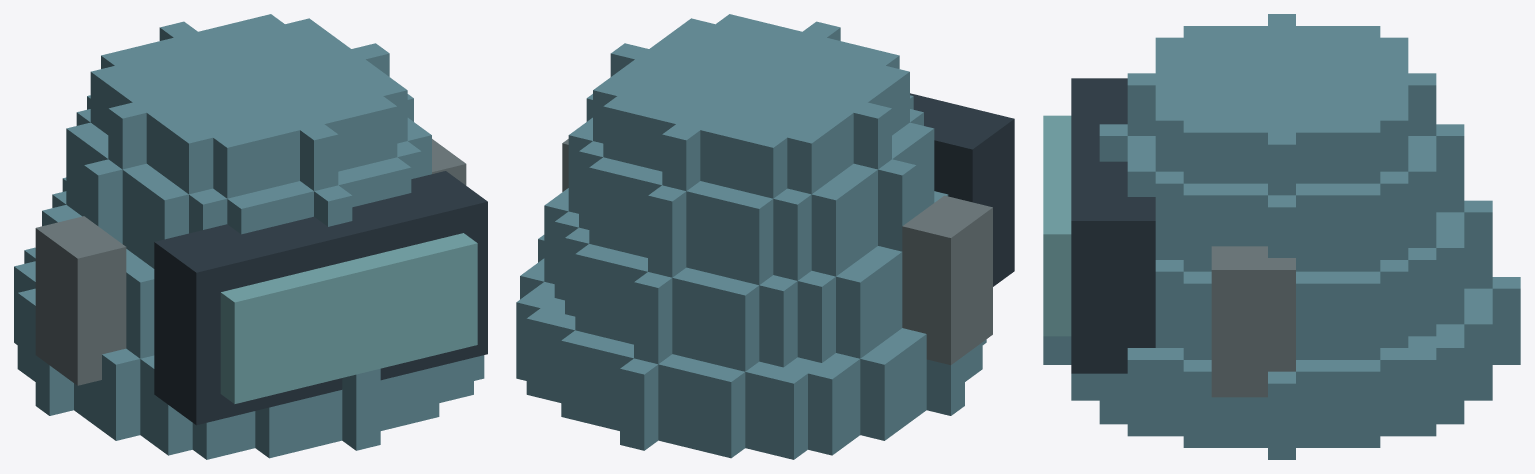
Rendered from ocean-06.glb.
3 renders of one model, left to right at view 1: azimuth 30°, elevation 25°; view 2: azimuth 150°, elevation 25°; view 3: azimuth 270°, elevation 25°, orthographic.
Visible parts, largest first — view 1: Diving helmet; view 2: Diving helmet; view 3: Diving helmet.
Part boxes in pixels (x1,y1,x2,y2): Diving helmet: (14, 14, 487, 459); Diving helmet: (516, 14, 1014, 459); Diving helmet: (1043, 14, 1520, 459).
Size of the model in its own units: 1.36 by 0.88 by 1.36.
